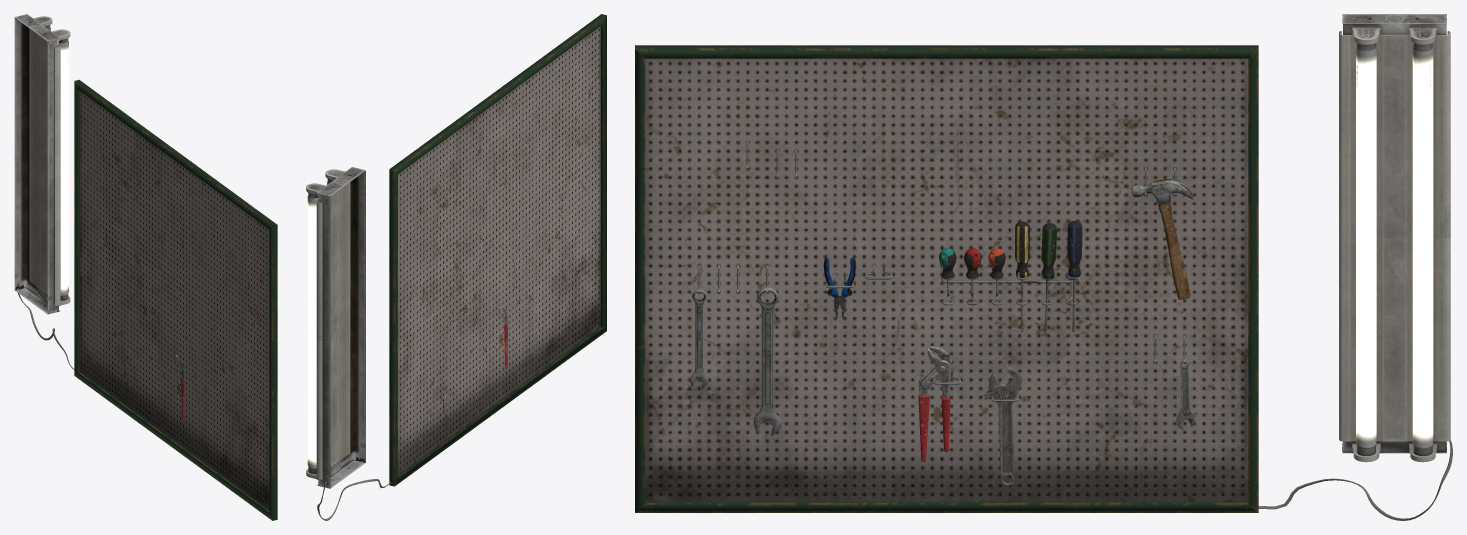
The model's file is tool board.fbx.
3 renders of one model, left to right at view 1: azimuth 30°, elevation 25°; view 2: azimuth 150°, elevation 25°; view 3: azimuth 270°, elevation 25°, orthographic. The views are drawn at different scales.
Visible parts, largest first — view 1: Pegboard_Sheet_low_Mat_Pegboard_0, Light_Fixture_Bulbs_low_Mat_Light_Fixture_0, Pegboard_Frame_low_Mat_Pegboard_0; view 2: Pegboard_Sheet_low_Mat_Pegboard_0, Light_Fixture_Bulbs_low_Mat_Light_Fixture_0, Pegboard_Frame_low_Mat_Pegboard_0; view 3: Pegboard_Sheet_low_Mat_Pegboard_0, Light_Fixture_Bulbs_low_Mat_Light_Fixture_0, Pegboard_Frame_low_Mat_Pegboard_0, Wrench_L_low_Mat_Tools_0, Angled_Pliers_Right_Grip_low_Mat_Tools_0, Adjustable_Wrench_L_Slide_low_Mat_Tools_0, Hammer_Handle_low_Mat_Tools_0, Pegboard_Hook_Screwdriver_low_Mat_Pegboard_0, Screwdriver_L_Shaft_low_Mat_Tools_0.002, Screwdriver_L_Shaft_low_Mat_Tools_0.001, Hammer_Head_low_Mat_Tools_0.
Boxes of the visible parts, left/top/right/bottom form: Pegboard_Sheet_low_Mat_Pegboard_0: left=80, top=91, right=269, bottom=509; Light_Fixture_Bulbs_low_Mat_Light_Fixture_0: left=14, top=14, right=70, bottom=314; Pegboard_Frame_low_Mat_Pegboard_0: left=74, top=79, right=277, bottom=520; Pegboard_Sheet_low_Mat_Pegboard_0: left=398, top=26, right=600, bottom=474; Light_Fixture_Bulbs_low_Mat_Light_Fixture_0: left=306, top=167, right=365, bottom=488; Pegboard_Frame_low_Mat_Pegboard_0: left=389, top=14, right=606, bottom=486; Pegboard_Sheet_low_Mat_Pegboard_0: left=645, top=58, right=1248, bottom=501; Light_Fixture_Bulbs_low_Mat_Light_Fixture_0: left=1339, top=14, right=1450, bottom=462; Pegboard_Frame_low_Mat_Pegboard_0: left=635, top=45, right=1258, bottom=512; Wrench_L_low_Mat_Tools_0: left=753, top=286, right=781, bottom=435; Angled_Pliers_Right_Grip_low_Mat_Tools_0: left=918, top=345, right=951, bottom=461; Adjustable_Wrench_L_Slide_low_Mat_Tools_0: left=983, top=366, right=1022, bottom=485; Hammer_Handle_low_Mat_Tools_0: left=1158, top=202, right=1190, bottom=299; Pegboard_Hook_Screwdriver_low_Mat_Pegboard_0: left=941, top=266, right=1078, bottom=305; Screwdriver_L_Shaft_low_Mat_Tools_0.002: left=1067, top=221, right=1082, bottom=331; Screwdriver_L_Shaft_low_Mat_Tools_0.001: left=1015, top=221, right=1029, bottom=332; Hammer_Head_low_Mat_Tools_0: left=1131, top=179, right=1193, bottom=204.
Size of the model in its own units: 0.1082 by 1.11 by 1.66.
3 materials, 3 textured.
